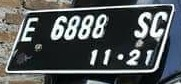plate: (6, 8, 172, 74)
